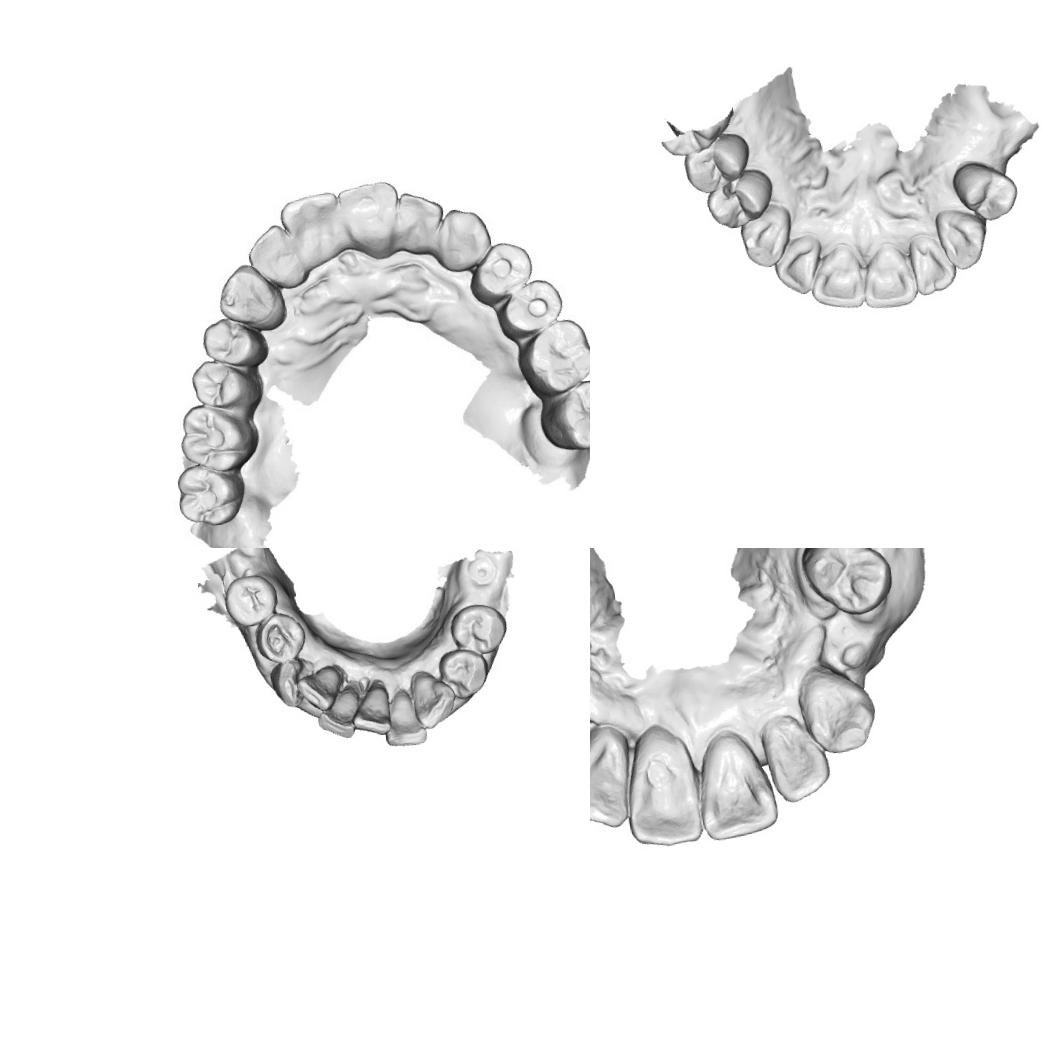canine: (794, 662, 883, 759), (215, 256, 286, 331), (430, 204, 494, 276), (736, 202, 796, 270), (933, 204, 991, 272), (407, 666, 460, 732), (266, 654, 316, 710)
implant: (462, 553, 500, 587)
incisor: (618, 727, 707, 853), (690, 725, 784, 843), (753, 708, 835, 808), (333, 175, 404, 264), (590, 727, 639, 837), (275, 188, 345, 263), (241, 222, 305, 294), (858, 239, 920, 311), (805, 242, 866, 312), (392, 185, 448, 260), (770, 232, 826, 297), (906, 230, 960, 296), (312, 680, 366, 742), (378, 686, 429, 750), (347, 680, 394, 739), (294, 663, 346, 714)
molar: (174, 396, 262, 478), (513, 314, 590, 399), (172, 458, 253, 534), (532, 374, 590, 456)
premolar: (796, 548, 896, 622), (464, 237, 538, 313), (492, 275, 568, 346), (678, 129, 757, 196), (701, 167, 777, 232), (950, 156, 1022, 224), (188, 354, 265, 414), (200, 312, 272, 372), (446, 600, 510, 658), (221, 571, 281, 629), (436, 643, 492, 702), (253, 610, 308, 666)
